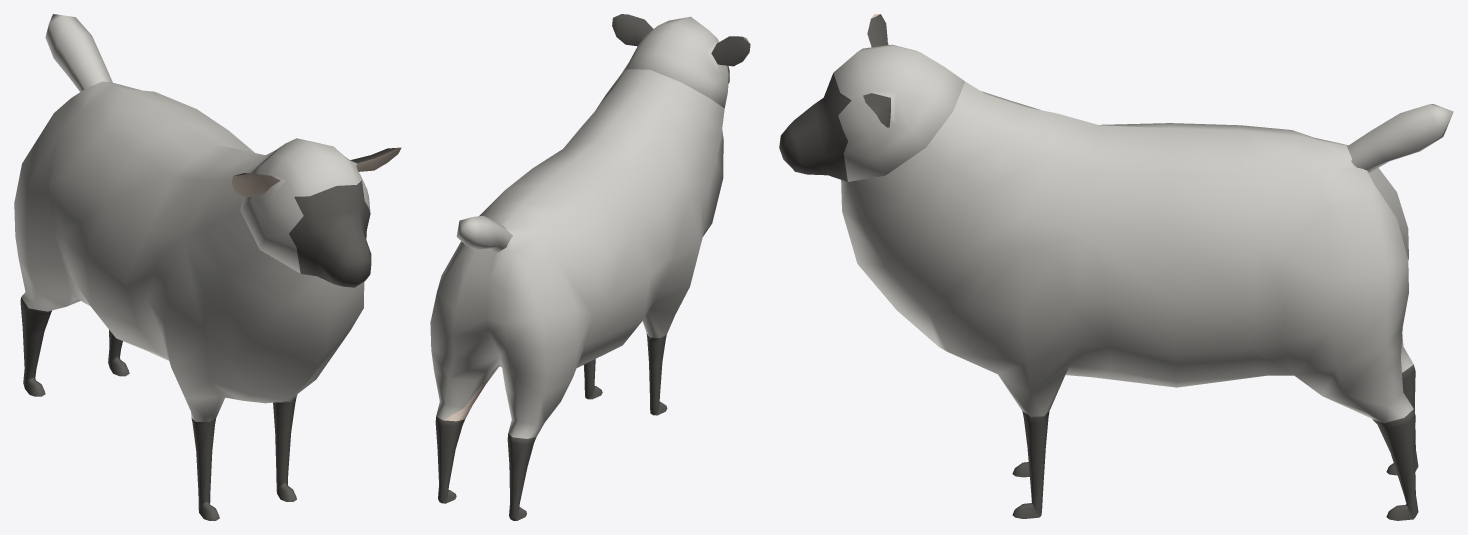
Rendered from Test_sheep.fbx.
3 renders of one model, left to right at view 1: azimuth 30°, elevation 25°; view 2: azimuth 150°, elevation 25°; view 3: azimuth 270°, elevation 25°, orthographic. The views are drawn at different scales.
Parts seen in each view (by area): view 1: lod1; view 2: lod1; view 3: lod1.
Boxes of the visible parts, x1,y1,x2,y2 form: lod1: [14, 14, 401, 520]; lod1: [430, 14, 750, 520]; lod1: [779, 14, 1453, 520].
Bounding box in the file's own units: 42.57 × 87.45 × 119.
